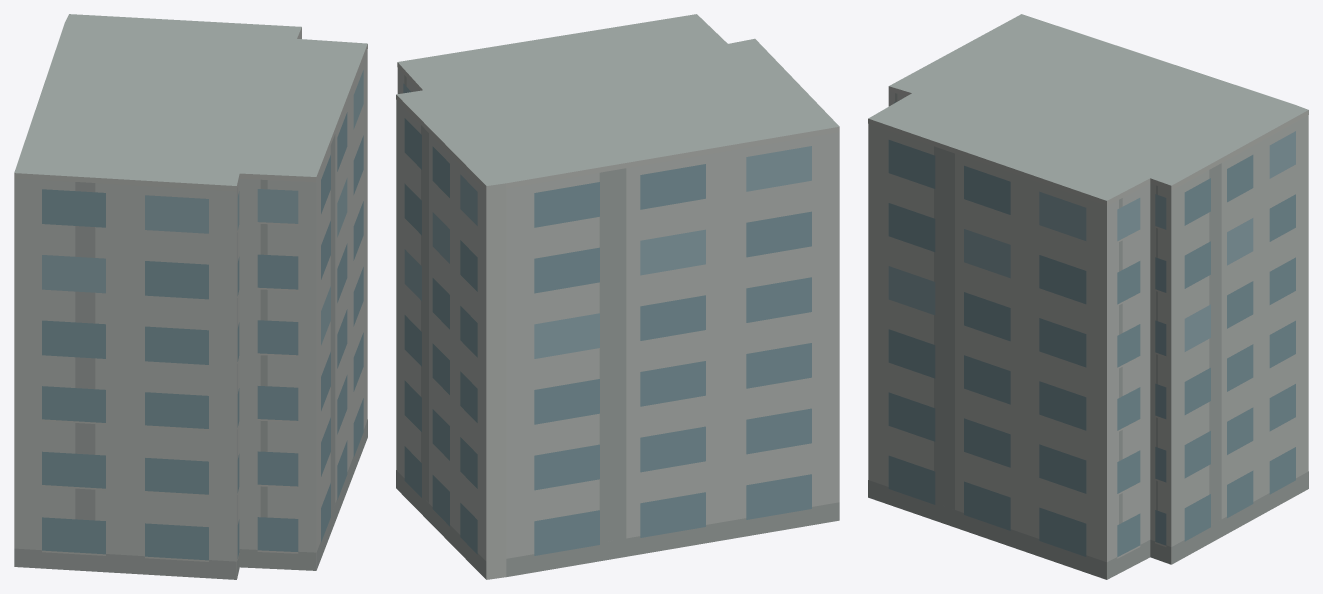
The model's file is survey-upis-32888638.glb.
The picture shows the model from 3 angles, left to right: view 1: azimuth 30°, elevation 25°; view 2: azimuth 150°, elevation 25°; view 3: azimuth 270°, elevation 25°; orthographic projection. The views are drawn at different scales.
Visible parts, largest first — view 1: survey-upis-32888638.tmp; view 2: survey-upis-32888638.tmp; view 3: survey-upis-32888638.tmp.
Part boxes in pixels (x1=…): survey-upis-32888638.tmp: x1=14, y1=14, x2=367, y2=579; survey-upis-32888638.tmp: x1=396, y1=14, x2=839, y2=579; survey-upis-32888638.tmp: x1=868, y1=14, x2=1308, y2=579.
Size of the model in its own units: 19.36 by 18.3 by 19.29.
